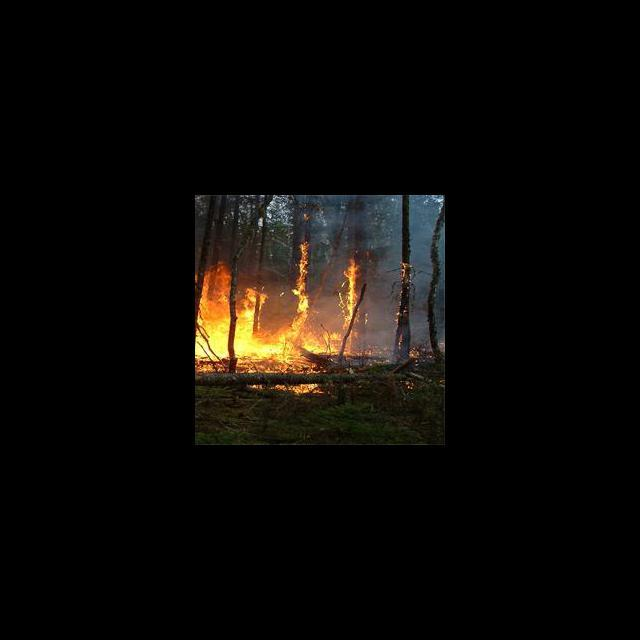Fire: (196, 240, 341, 372), (248, 382, 324, 395), (342, 256, 356, 324)
